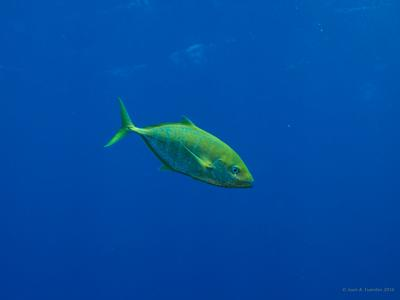Carangidae -Jacks-: (95, 87, 255, 189)
